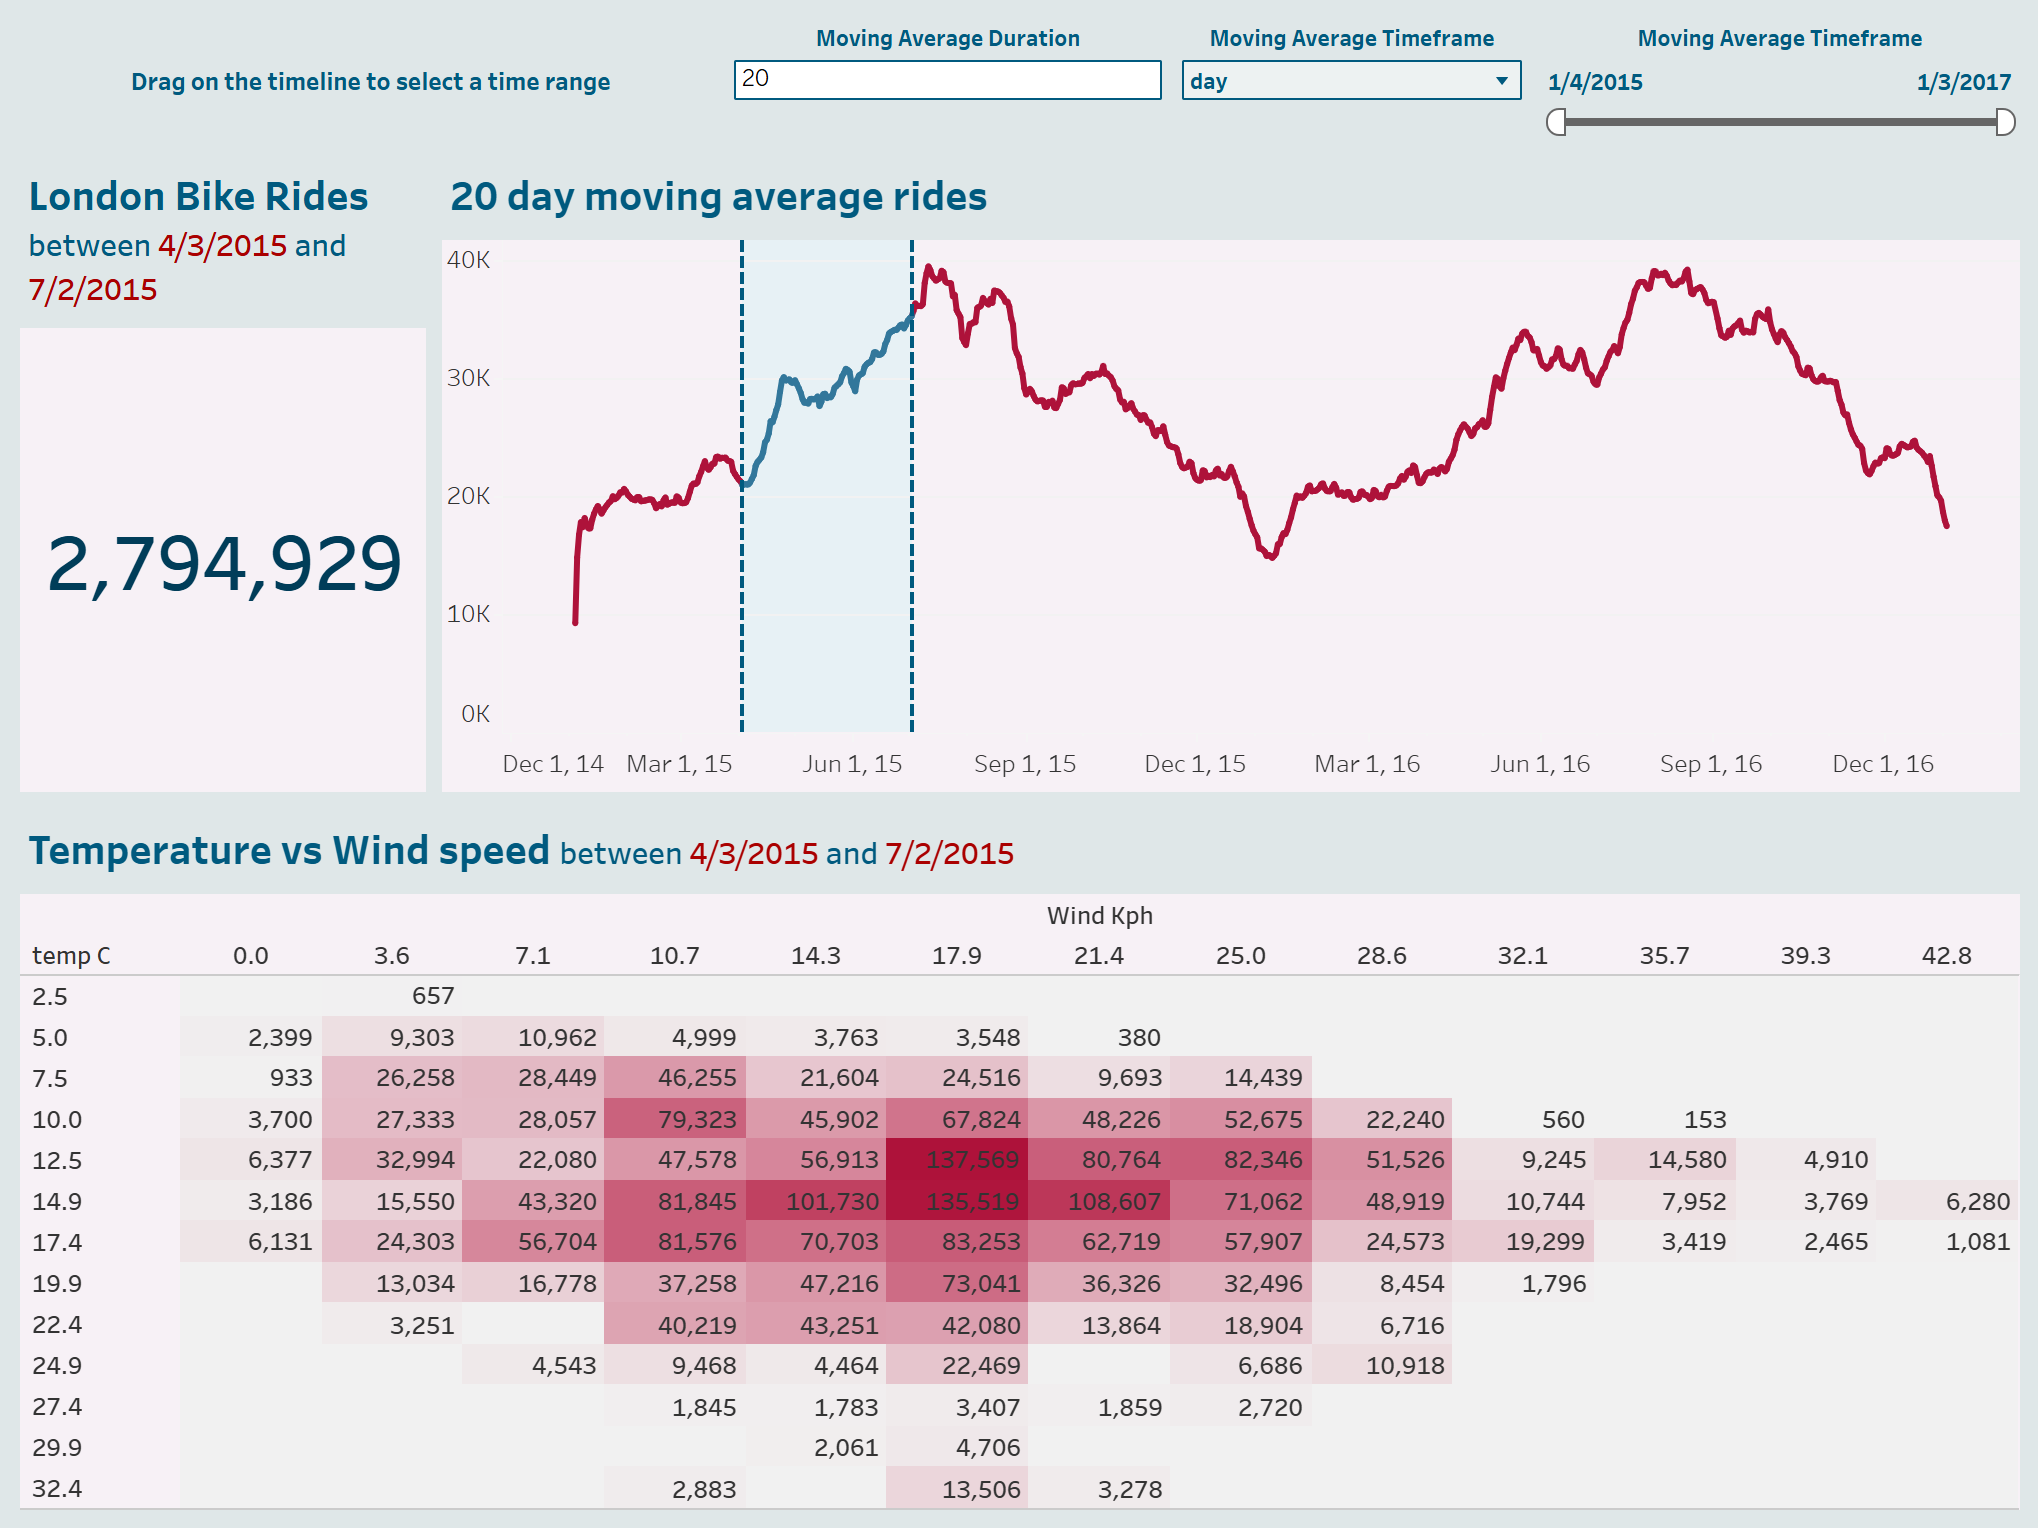

The page's visual inventory and layout, read from the dashboard file:
{"tool":"tableau","page":{"name":"London Bike Rides Dashboard","canvas":[1024,768],"ordinal":0},"visuals":[{"type":"text","box":[8,8,356,66]},{"type":"parameter","param":"[Parameters].[Parameter 2]","box":[364,8,224,66]},{"type":"parameter","param":"[Parameters].[Parameter 1]","box":[588,8,180,66]},{"type":"filter","title":"Moving Avg","param":"[federated.00370od1pct0pc1aqoh5607ibwla].[none:Calculation_1169810016174682112:q","box":[768,8,248,66]},{"type":"worksheet","title":"TotalRides","mark":"Automatic","box":[8,74,211.3,327.5]},{"type":"worksheet","title":"Moving Avg","mark":"Automatic","rows":["Calculation1"],"cols":["Calculation_1169810016174682112"],"box":[219.3,74,796.7,327.5]},{"type":"worksheet","title":"Heatmap","mark":"Square","rows":["temp real C (bin)"],"cols":["Wind Speed Kph (bin)"],"box":[8,401.5,1008,358.5]}]}

Visuals, with their boxes in screenshot pixels (x1, y1, x2, y2), scaled from the page's 1024x768 canvas onto the 2038x1528 screenshot:
text: (16,16,724,147)
parameter: (724,16,1170,147)
parameter: (1170,16,1528,147)
"Moving Avg" filter: (1528,16,2022,147)
"TotalRides" worksheet: (16,147,436,799)
"Moving Avg" worksheet: (436,147,2022,799)
"Heatmap" worksheet (Square marks): (16,799,2022,1512)
